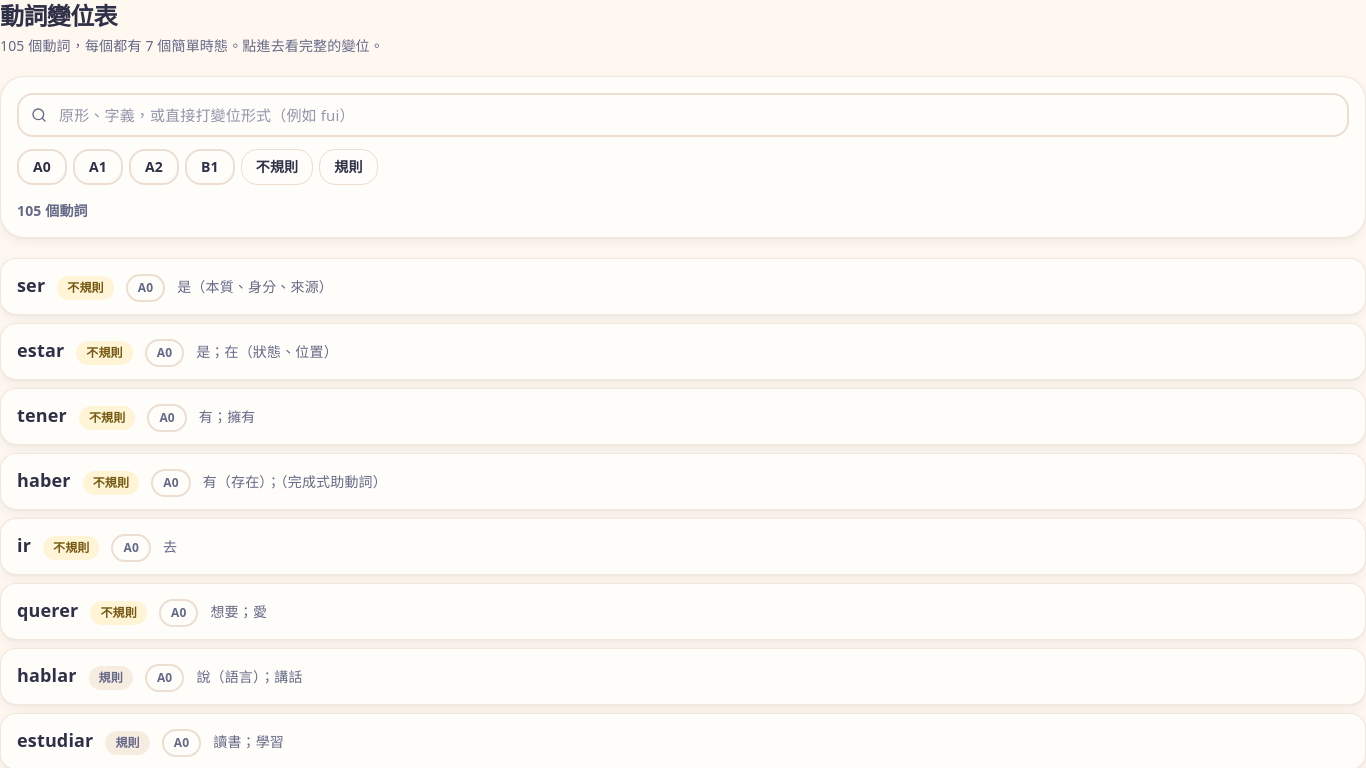
it: 動詞列表 › 找不到東西時給空狀態，不是一片空白
Type "zzzzzz" into the field labelled "原形、字義，或直接打變位形式（例如 fui）" at (683, 115), box top-left (17, 93), bottom-right (1349, 137)
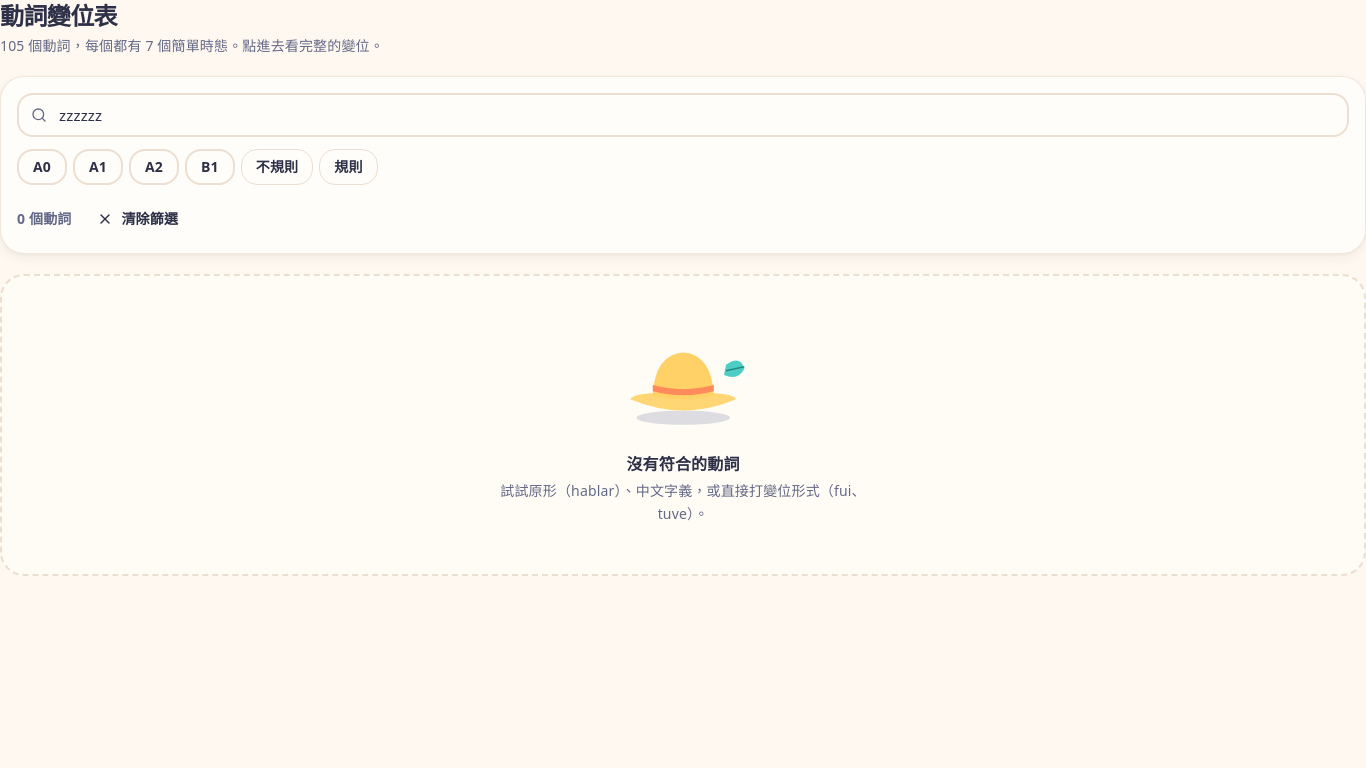
Result: no list items are shown
Result: the text "沒有符合的動詞" is shown at top-left (626, 453), bottom-right (740, 475)
